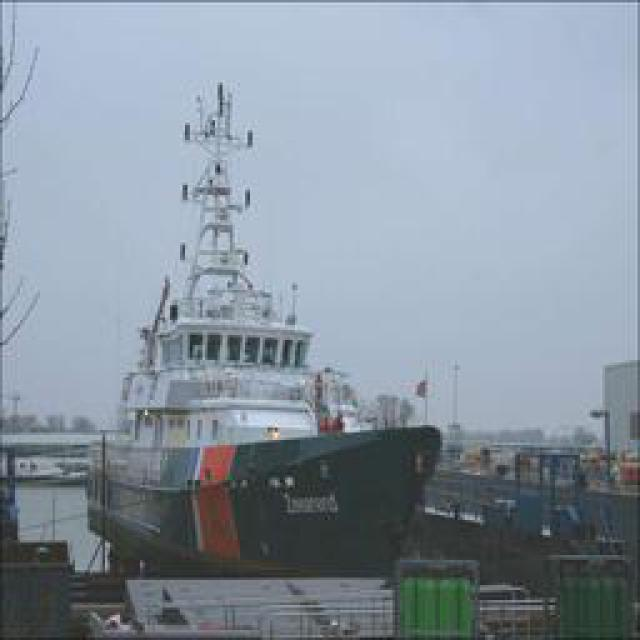Ship: (92, 67, 442, 585)
